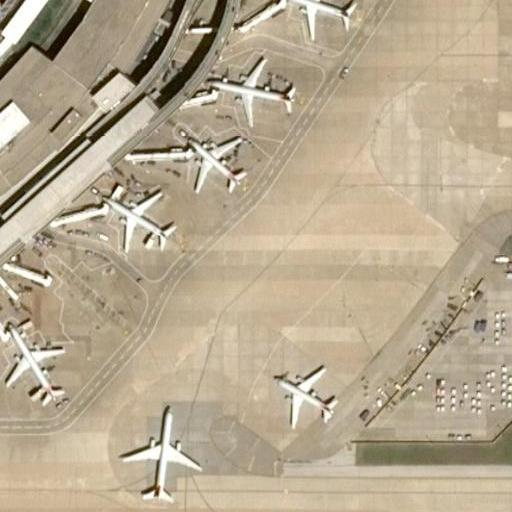Aircraft: (120, 402, 198, 501), (211, 52, 296, 117), (103, 180, 172, 253), (4, 321, 63, 401), (274, 358, 335, 434), (180, 131, 246, 197), (277, 0, 357, 29)
